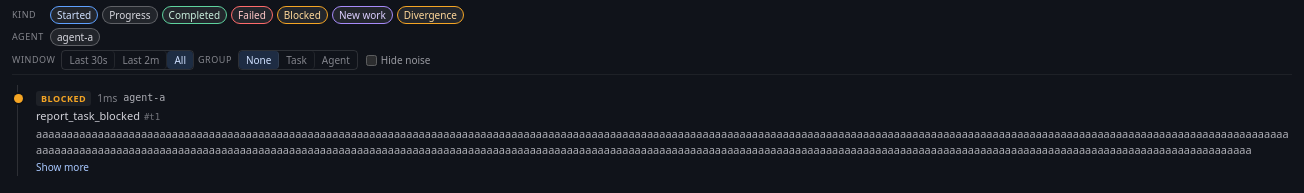
Scenario: <OrchestrationTimeline /> › toggles long details with the show more button
Click the button "Show more": (62, 166) 36,158 -> 89,174
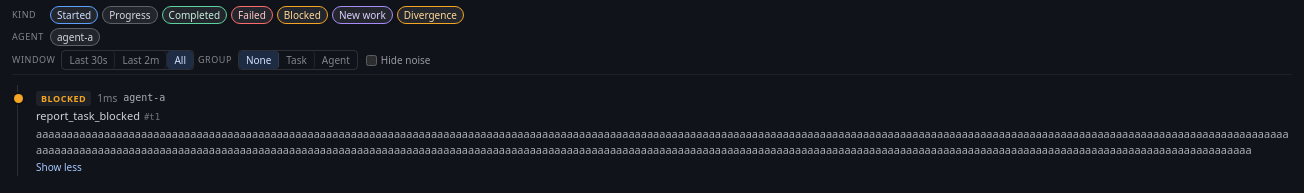
Check: the button "Show less" is shown, box 36,158 -> 82,174
